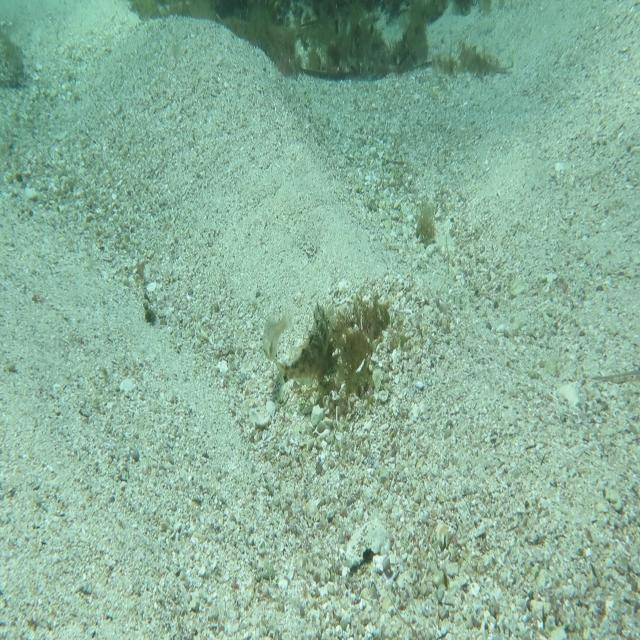DAN_CIRC: (268, 295, 335, 402)
female: (261, 301, 298, 369)
nest: (302, 288, 398, 424)
vegetation: (131, 0, 527, 32), (261, 26, 440, 83), (412, 197, 440, 250)
